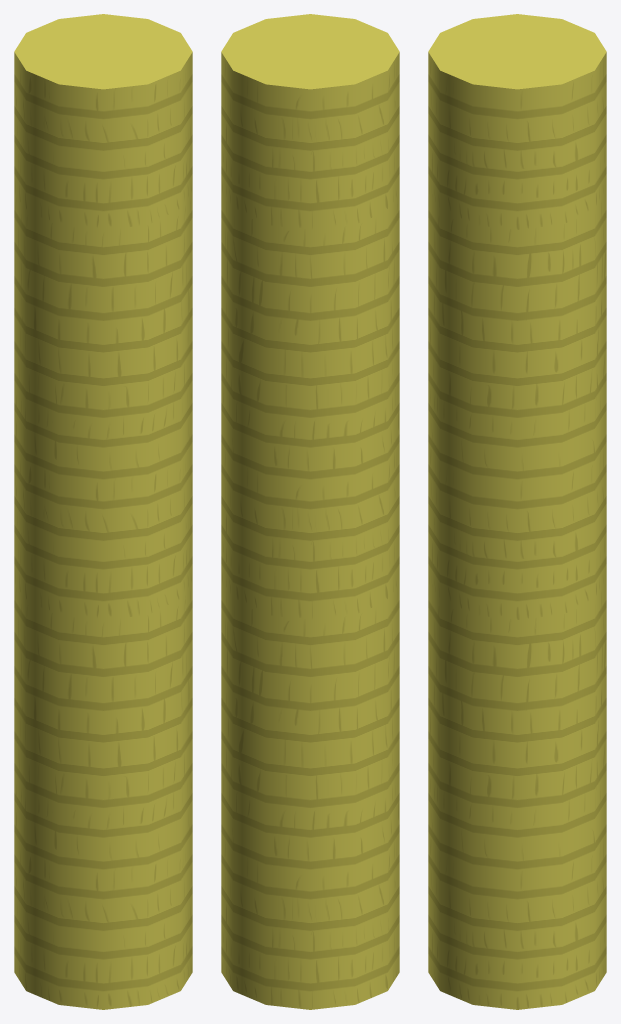
The model's file is CoinStackLg.fbx.
The picture shows the model from 3 angles, left to right: view 1: azimuth 30°, elevation 25°; view 2: azimuth 150°, elevation 25°; view 3: azimuth 270°, elevation 25°; orthographic projection.
Parts seen in each view (by area): view 1: Cylinder016; view 2: Cylinder016; view 3: Cylinder016.
Part boxes in pixels (left/top/right/bottom): Cylinder016: left=14, top=14, right=192, bottom=1009; Cylinder016: left=221, top=14, right=399, bottom=1009; Cylinder016: left=428, top=14, right=606, bottom=1009.
Size of the model in its own units: 8.61 by 8.61 by 49.
3 materials, 2 textured.
